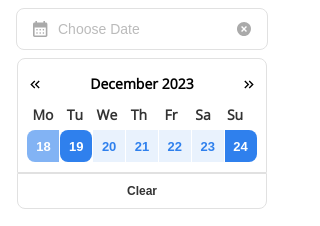
Test case: Calendar component › after clicking on navigation buttons should move 7 days if type=week
The image size is (320, 226).
Expected: the text "19" is shown, x1=69 y1=138 x2=84 y2=154
Click the button with test id "next-btn". click: click(249, 84)
box: x1=241 y1=76 x2=257 y2=92
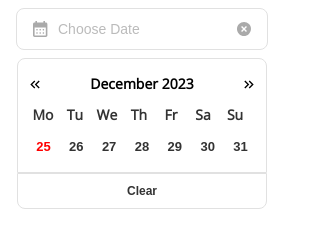
Click the button with test id "prev-btn". click: click(35, 84)
box: x1=27 y1=76 x2=43 y2=92
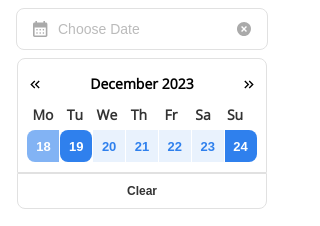
Now the text "19" is shown, box x1=69 y1=138 x2=84 y2=154
Click the button with test id "prev-btn". click: click(35, 84)
box: x1=27 y1=76 x2=43 y2=92
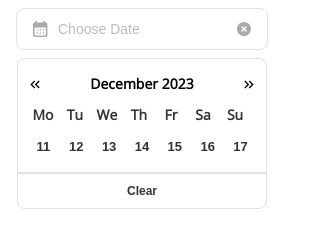
Now the text "12" is shown, box x1=69 y1=138 x2=84 y2=154
